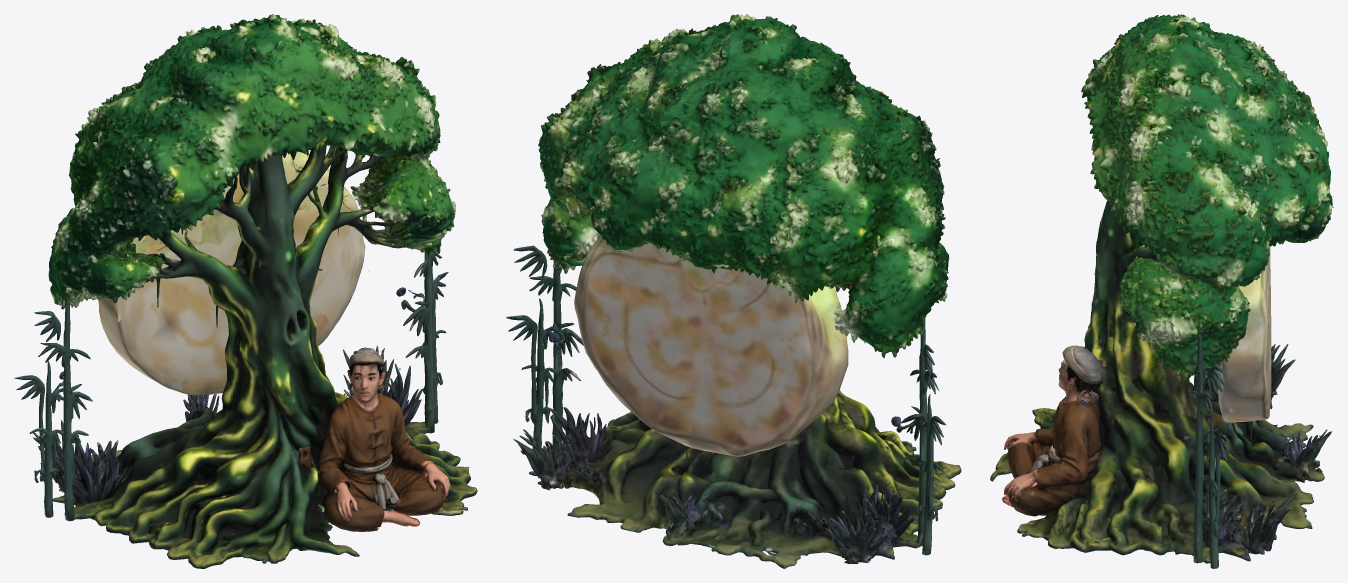
File: asset.glb
The picture shows the model from 3 angles, left to right: view 1: azimuth 30°, elevation 25°; view 2: azimuth 150°, elevation 25°; view 3: azimuth 270°, elevation 25°; orthographic projection. The views are drawn at different scales.
Bounding box in the file's own units: 1.86 × 1.92 × 1.31.
Materials: 1 (1 with a texture image).
